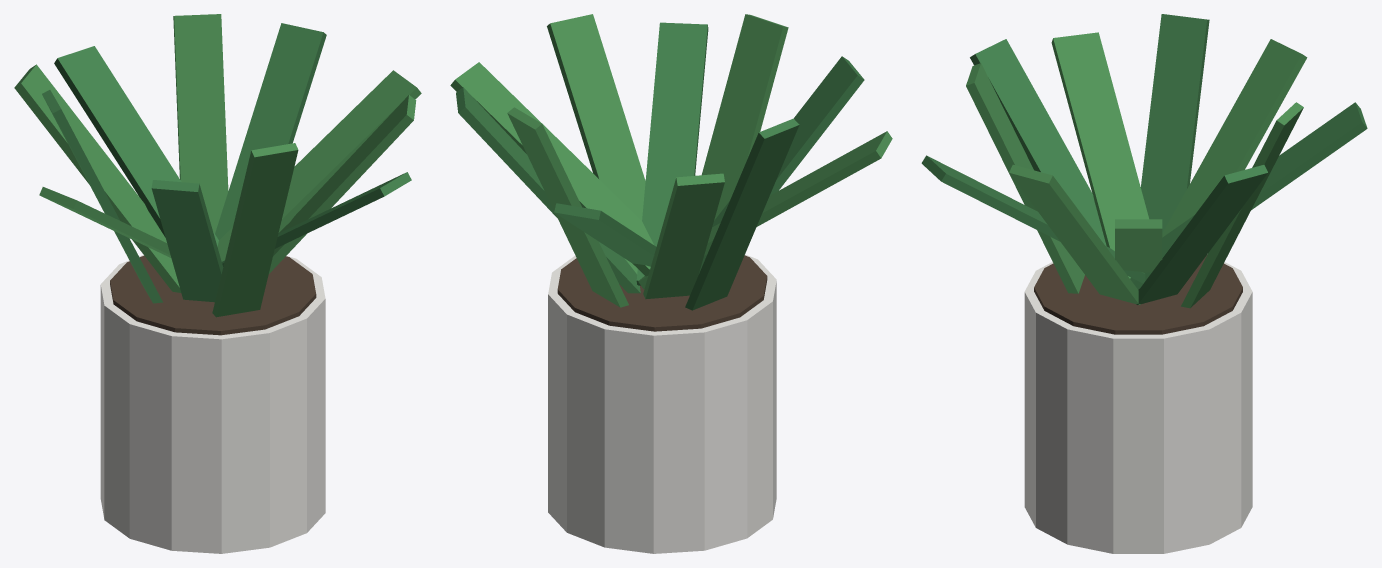
File: fern_pot.glb
3 renders of one model, left to right at view 1: azimuth 30°, elevation 25°; view 2: azimuth 150°, elevation 25°; view 3: azimuth 270°, elevation 25°, orthographic.
Visible parts, largest first — view 1: fern_pot; view 2: fern_pot; view 3: fern_pot.
Boxes of the visible parts, box(x1,y1,x2,y2) form: fern_pot: box(14, 14, 421, 553); fern_pot: box(450, 14, 892, 553); fern_pot: box(921, 14, 1367, 553).
Size of the model in its own units: 0.954 by 0.9852 by 0.939.
